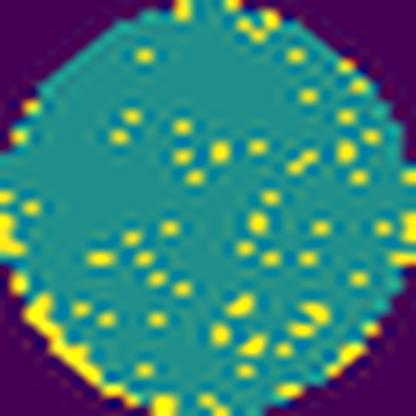Edge-Loc: (22, 292, 148, 409), (0, 209, 33, 262)
